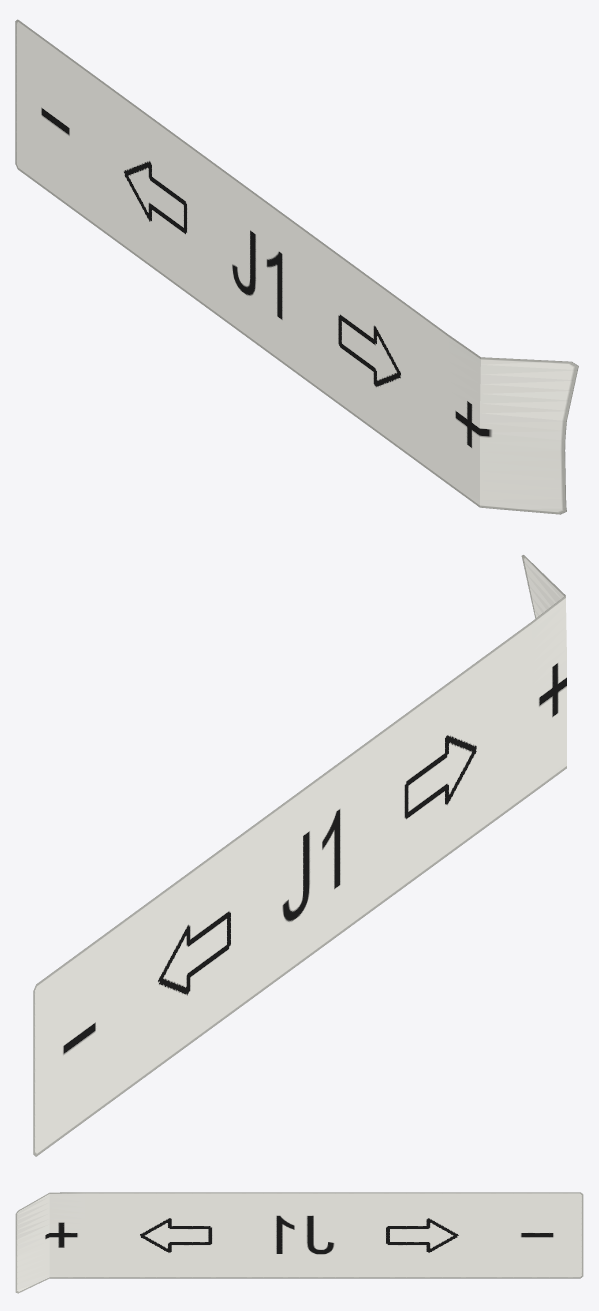
File: J1_sticker_other.glb
3 views of the same model, one above another, from view 1: azimuth 30°, elevation 25°; view 2: azimuth 150°, elevation 25°; view 3: azimuth 270°, elevation 25° (orthographic). The views are drawn at different scales.
Bounding box in the file's own units: 0.00602 × 0.012 × 0.07.
Materials: 1 (1 with a texture image).
